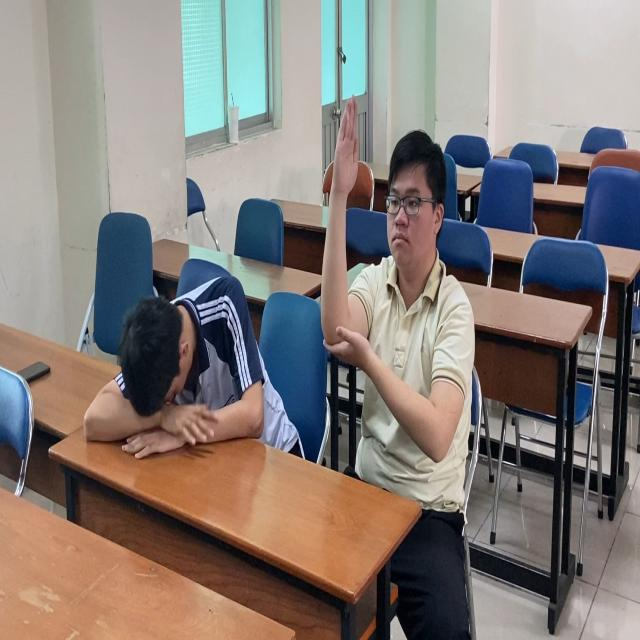raise_hand: (321, 91, 480, 517)
sleep: (72, 268, 308, 466)
